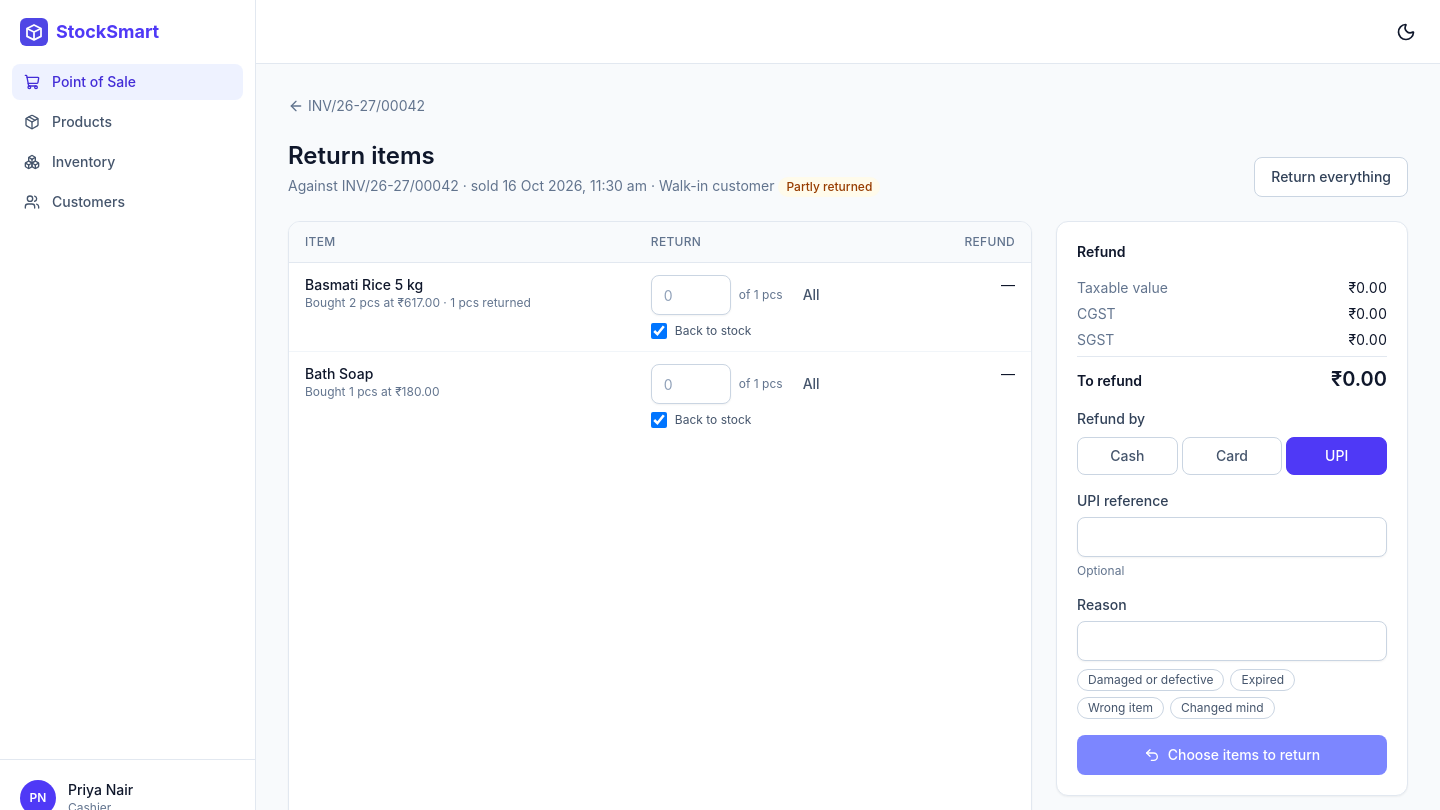
Scenario: Returns › takes back what is left of a line, keeps damaged goods off the shelf and opens the credit note
Check: the heading "Return items" is shown, box [288,141,435,170]
Check: the text "Bought 2 pcs at ₹617.00 · 1 pcs returned" is shown, box [305,295,531,310]
Type "2" into the field named "Quantity of Basmati Rice 5 kg to return" at (691, 295), box [651,275,731,315]
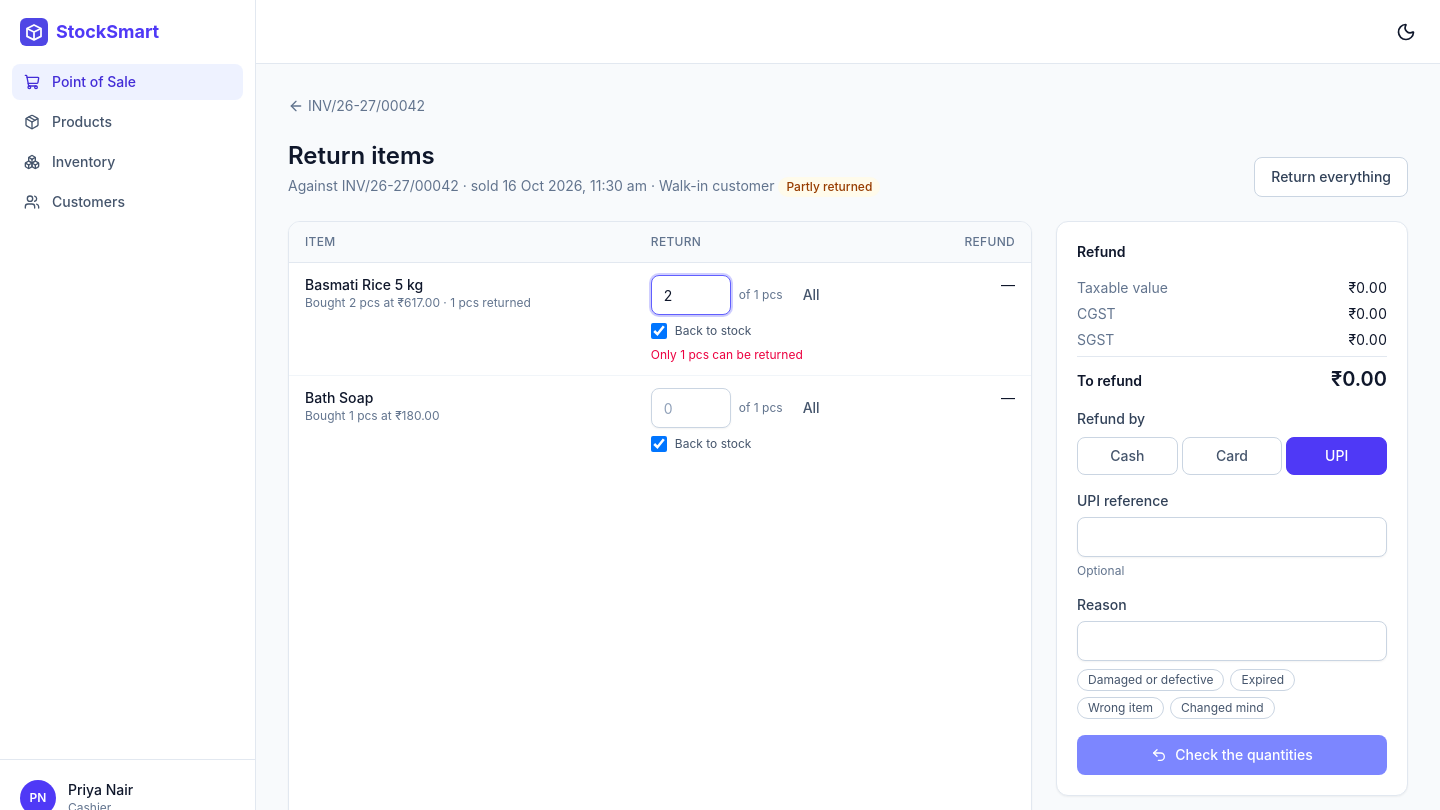
Check: the button "Check the quantities" is disabled, box [1077,735,1387,775]
Check: the text "Only 1 pcs can be returned" is shown, box [651,347,803,362]
Replace the text in the field named "Quantity of Basmati Rice 5 kg to return" with "1" at (691, 295), box [651,275,731,315]
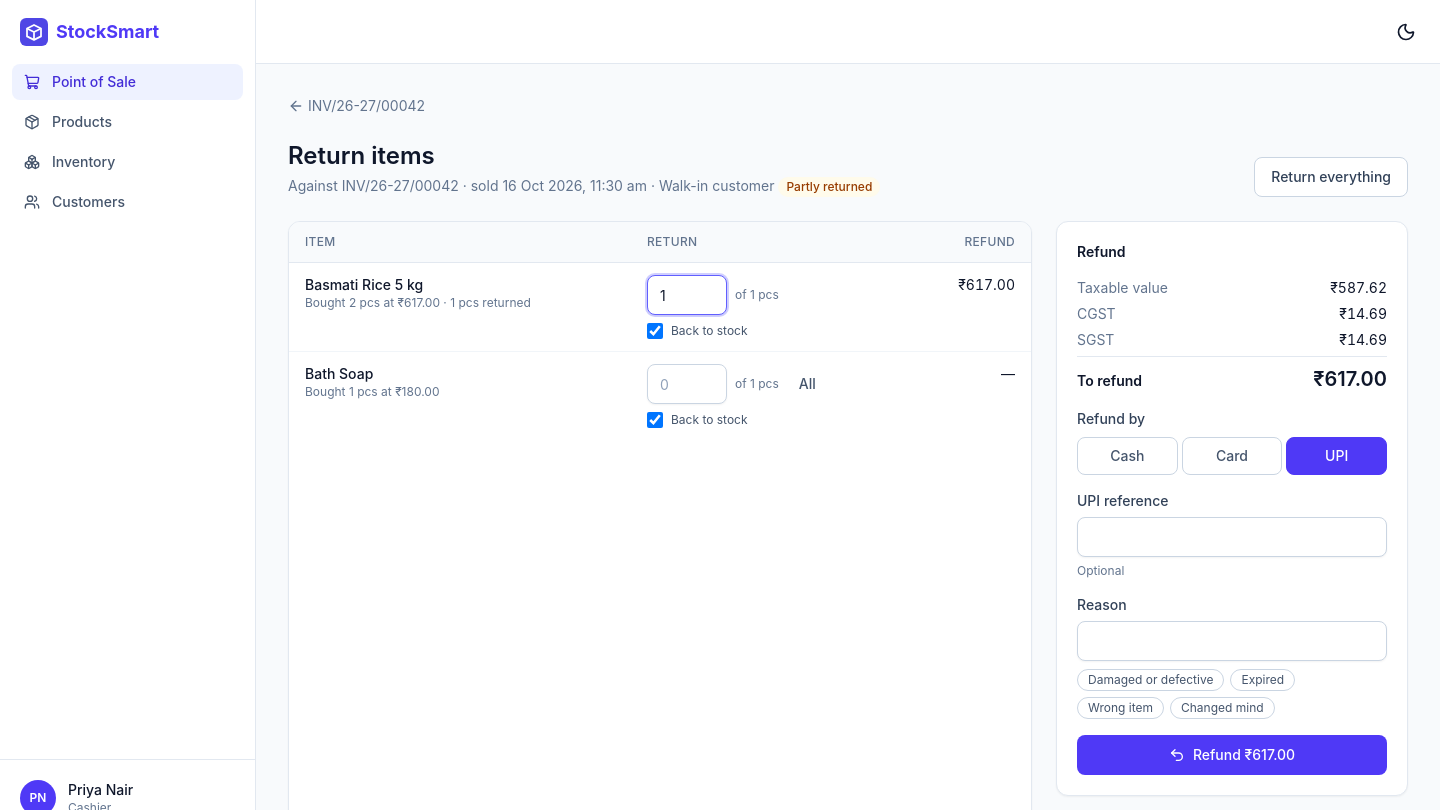
Check: the text "₹587.62" is shown, box [1330,278,1387,298]
Check: the text "₹14.69" in the row of "CGST" is shown, box [1339,305,1387,322]
Check: the text "₹617.00" is shown, box [1313,365,1387,393]
Click the checkbox labelled "Back to stock" below "Basmati Rice 5 kg" at (655, 331), box [647,323,663,339]
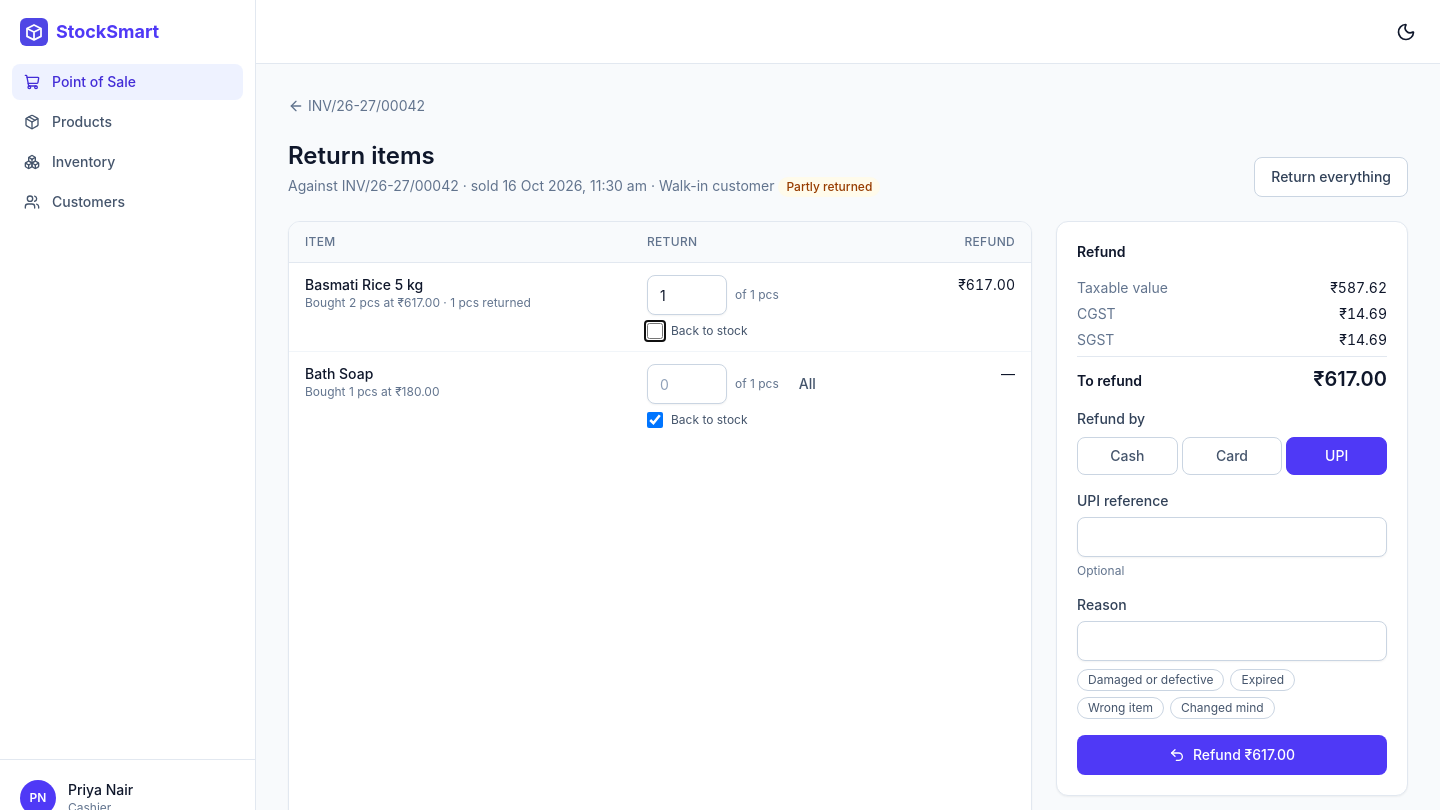
Click the button "Refund ₹617.00" at (1232, 755), box [1077,735,1387,775]
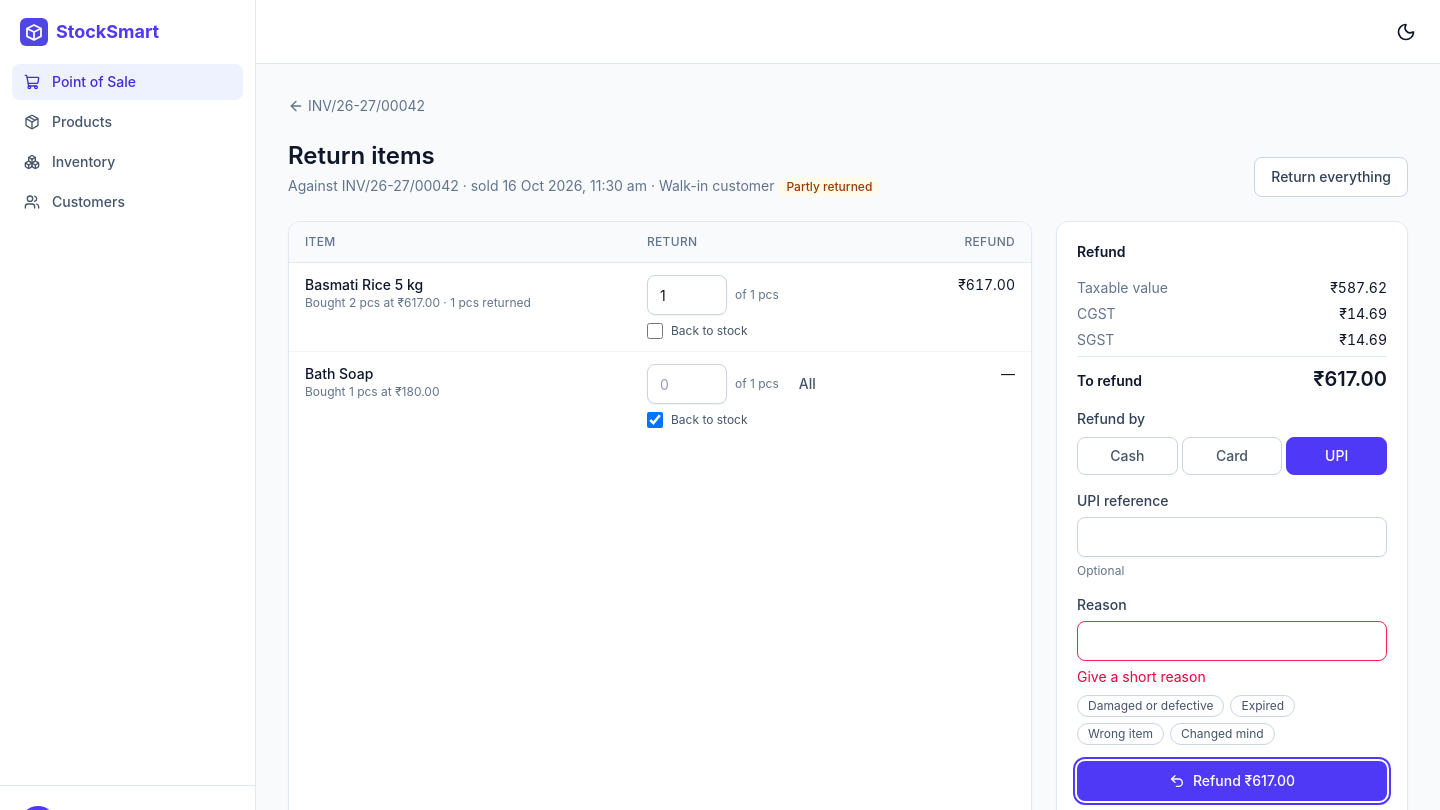
Check: the text "Give a short reason" is shown, box [1077,668,1206,685]
Click the button "Damaged or defective" at (1151, 706), box [1077,695,1224,717]
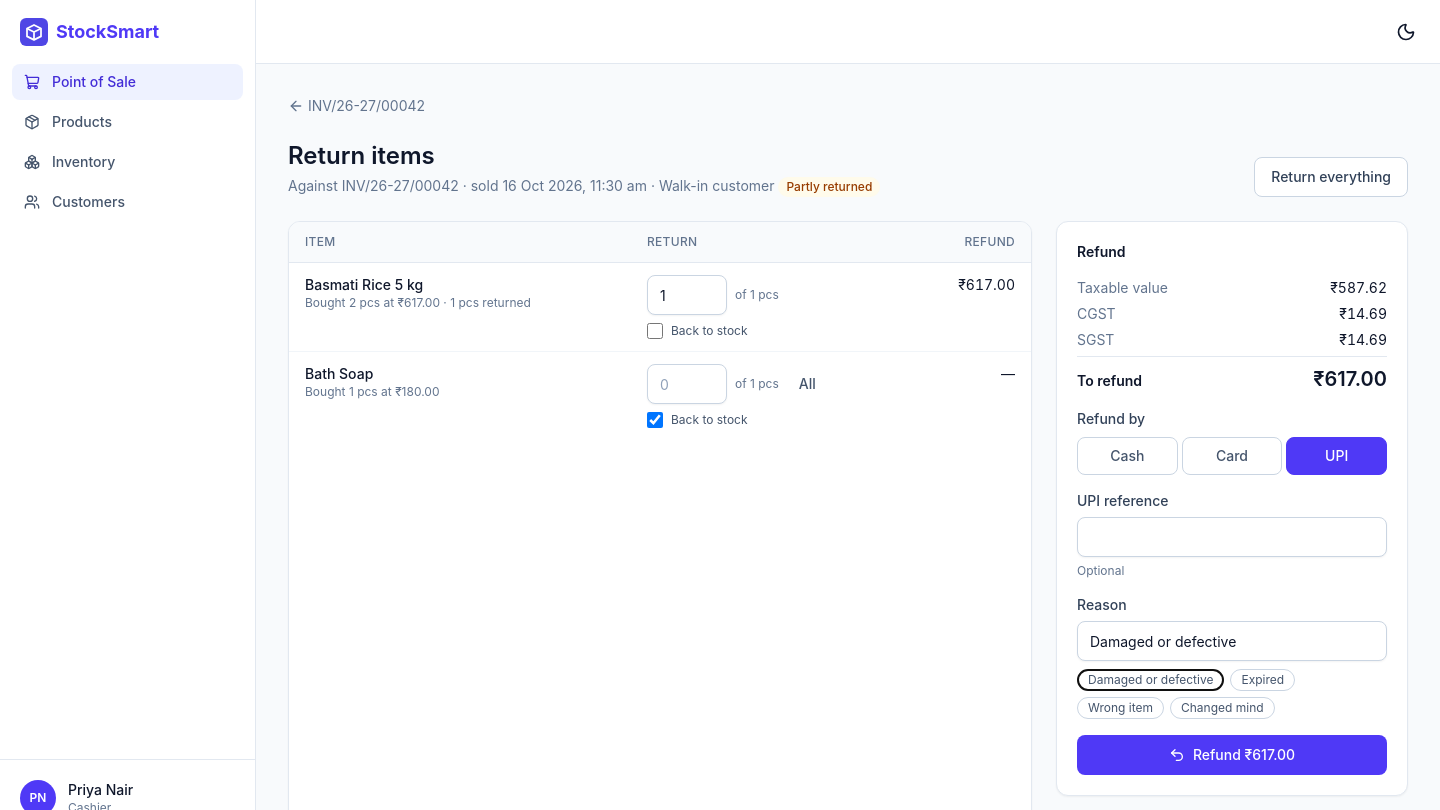
Click the button "Refund ₹617.00" at (1232, 755), box [1077,735,1387,775]
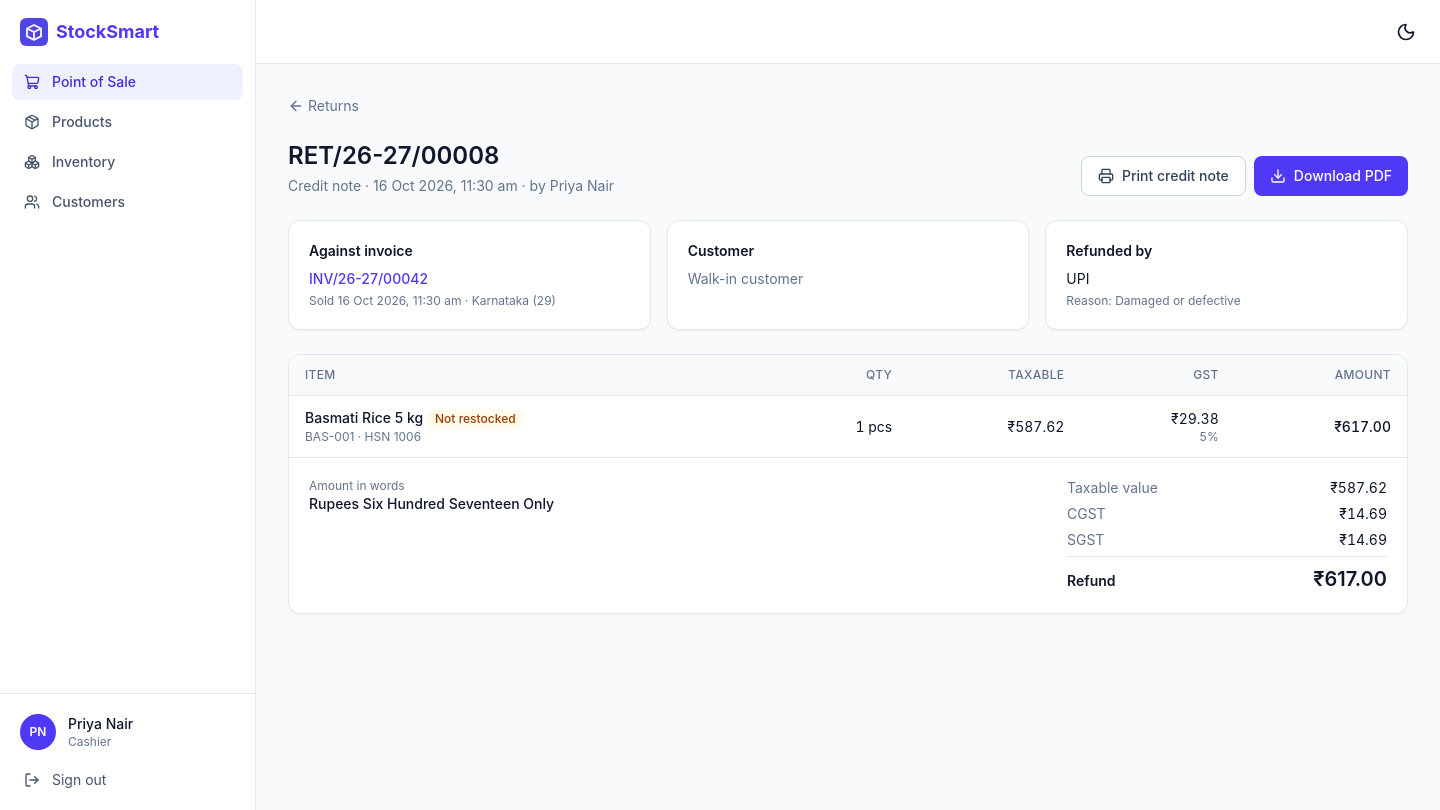
Check: the text "₹617.00" is shown, box [1313,565,1387,593]
Check: the heading "RET/26-27/00008" is shown, box [288,141,499,170]
Check: the text "Not restocked" is shown, box [427,409,524,429]
